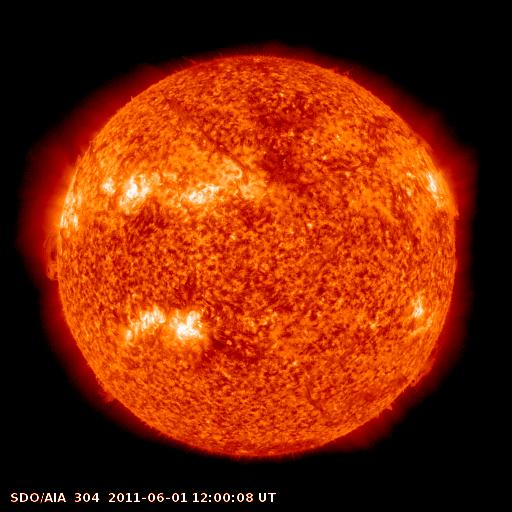prominence: (395, 338, 451, 394), (31, 229, 75, 290)
